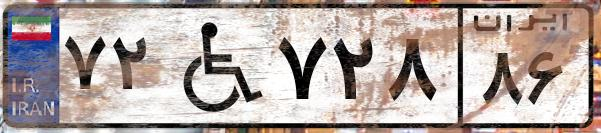2: (330, 28, 385, 110), (110, 28, 158, 98)
6: (525, 38, 570, 115)
7: (270, 28, 330, 110), (57, 26, 110, 100)
8: (385, 28, 445, 110), (475, 38, 525, 113)
ژ (معلولین و جانبازان): (158, 12, 270, 120)
